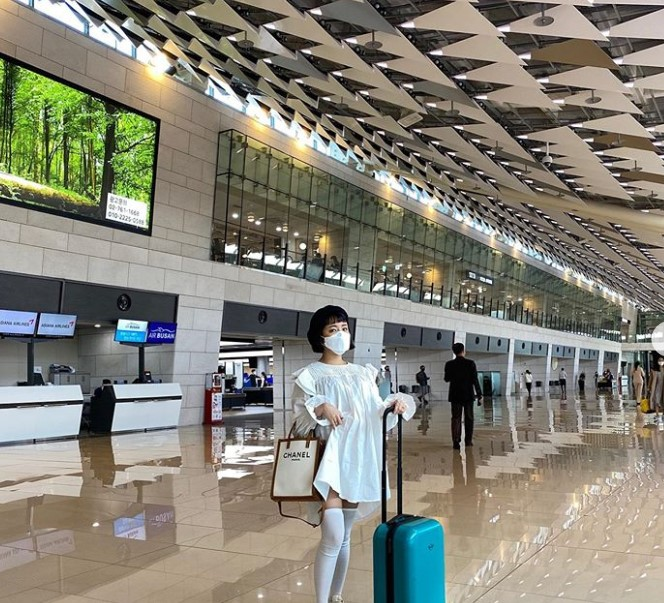face_with_mask: (307, 306, 356, 360)
